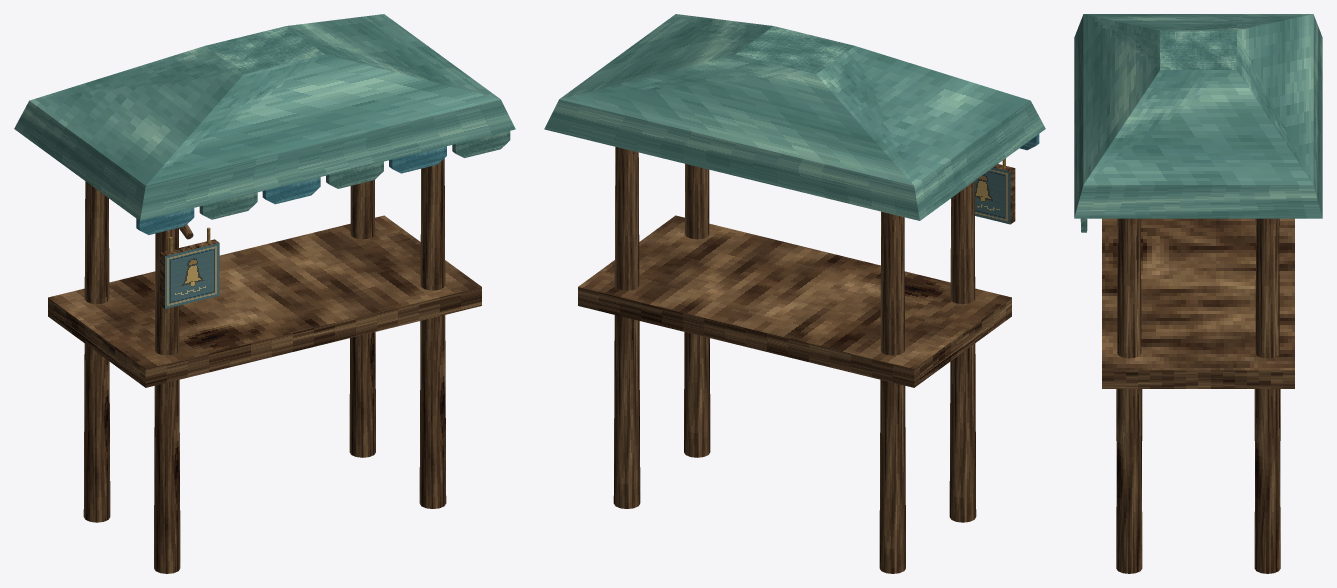
The model's file is Waystall.fbx.
3 views of the same model, side by side, from view 1: azimuth 30°, elevation 25°; view 2: azimuth 150°, elevation 25°; view 3: azimuth 270°, elevation 25° (orthographic).
Parts seen in each view (by area): view 1: Waystall paint; view 2: Waystall paint; view 3: Waystall paint.
Part boxes in pixels (x1,y1,x2,y2): Waystall paint: (14,14,515,573); Waystall paint: (544,14,1045,573); Waystall paint: (1074,14,1322,573).
Size of the model in its own units: 229 by 268 by 133.
